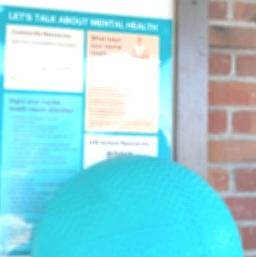algae: (24, 149, 249, 257)
